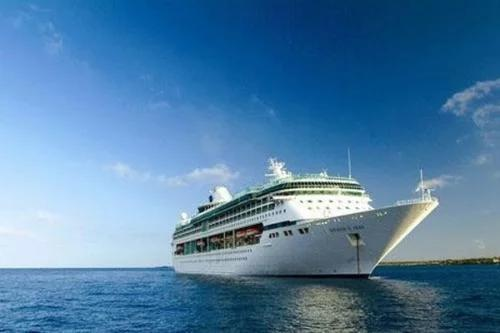youlun: (172, 144, 438, 275)
